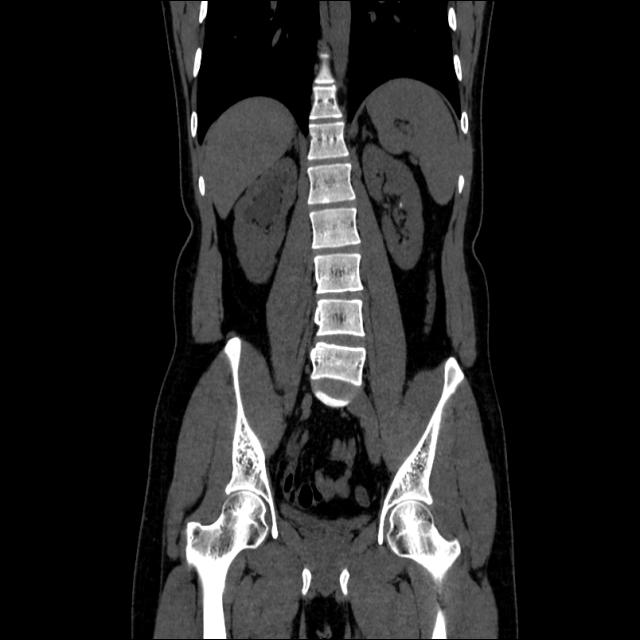kidney: (228, 152, 303, 285), (360, 140, 429, 271)
stone: (399, 199, 404, 209)
